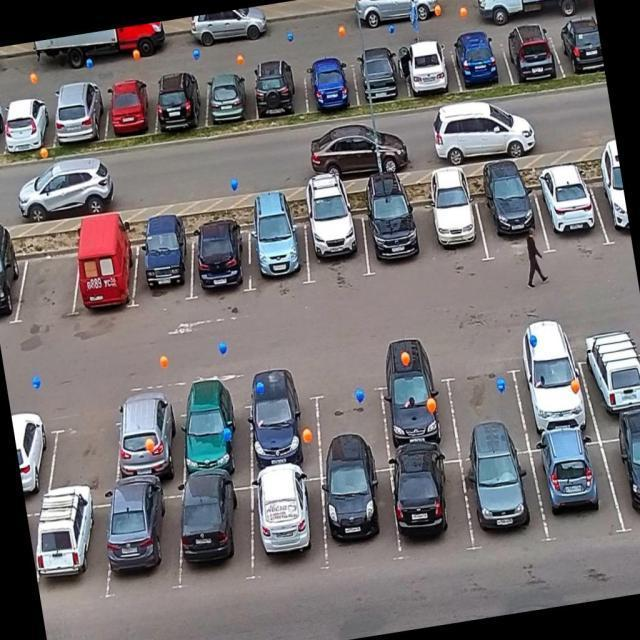car: (91, 490, 192, 600), (168, 474, 266, 584), (29, 490, 120, 602), (237, 472, 332, 577), (530, 427, 616, 542), (454, 448, 550, 549), (316, 464, 408, 566), (376, 355, 460, 462), (388, 454, 473, 554), (108, 392, 190, 494), (240, 372, 321, 474), (174, 386, 257, 480), (512, 338, 586, 432), (63, 235, 146, 315), (353, 194, 428, 282), (576, 331, 640, 432), (124, 228, 202, 308), (470, 178, 546, 258), (412, 184, 487, 264), (182, 219, 256, 299), (534, 170, 604, 253), (298, 204, 371, 283), (491, 18, 562, 96), (95, 64, 163, 144), (44, 71, 112, 151), (243, 213, 313, 288), (10, 400, 62, 500), (192, 57, 258, 132), (342, 40, 407, 114), (394, 28, 456, 104), (248, 52, 310, 128), (446, 29, 510, 102), (0, 84, 60, 160), (149, 70, 209, 145), (300, 44, 360, 118), (602, 421, 640, 531), (547, 17, 605, 86), (592, 159, 632, 247), (0, 240, 29, 325)
free: (42, 401, 137, 502), (305, 362, 393, 465), (448, 356, 526, 454), (10, 246, 86, 324)
